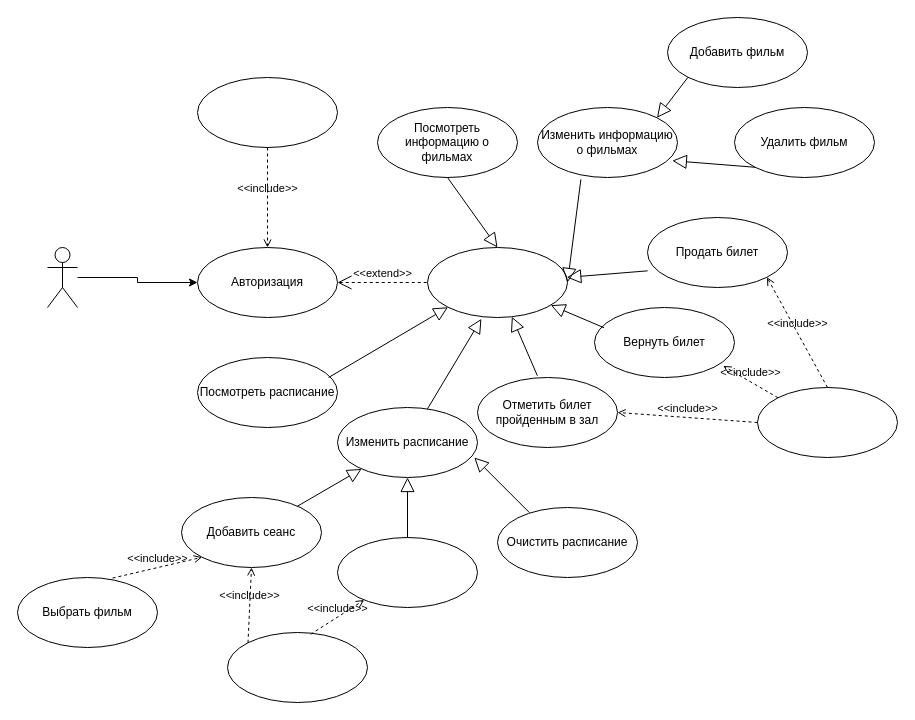
The diagram is 915 pixels wide and 720 high, and some of its shapes have lost their labels. The centre of each missing label's shape, as x and y in pixels:
Выбор функции для работы: the point at 497,282
Выбрать время: the point at 297,667
Выбрать время сеанса и место: the point at 827,422
Регистрация: the point at 267,112
Сотрудник: the point at 62,277
Удалить сеанс: the point at 407,572
